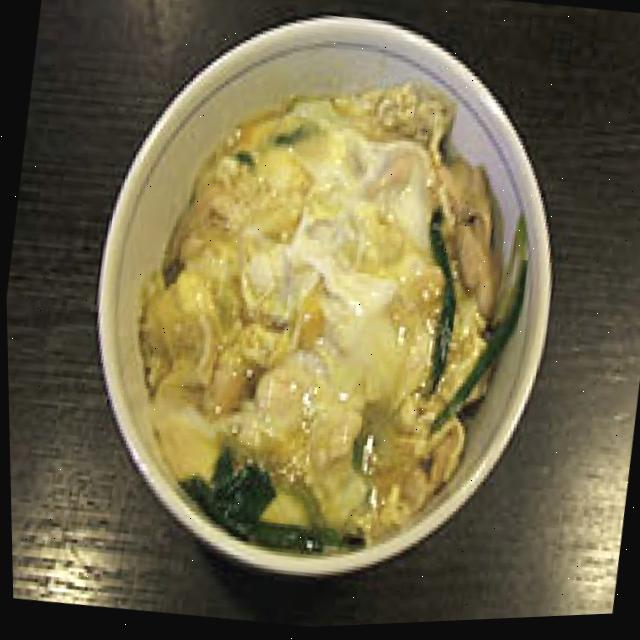米饭主食: (42, 0, 595, 635)
